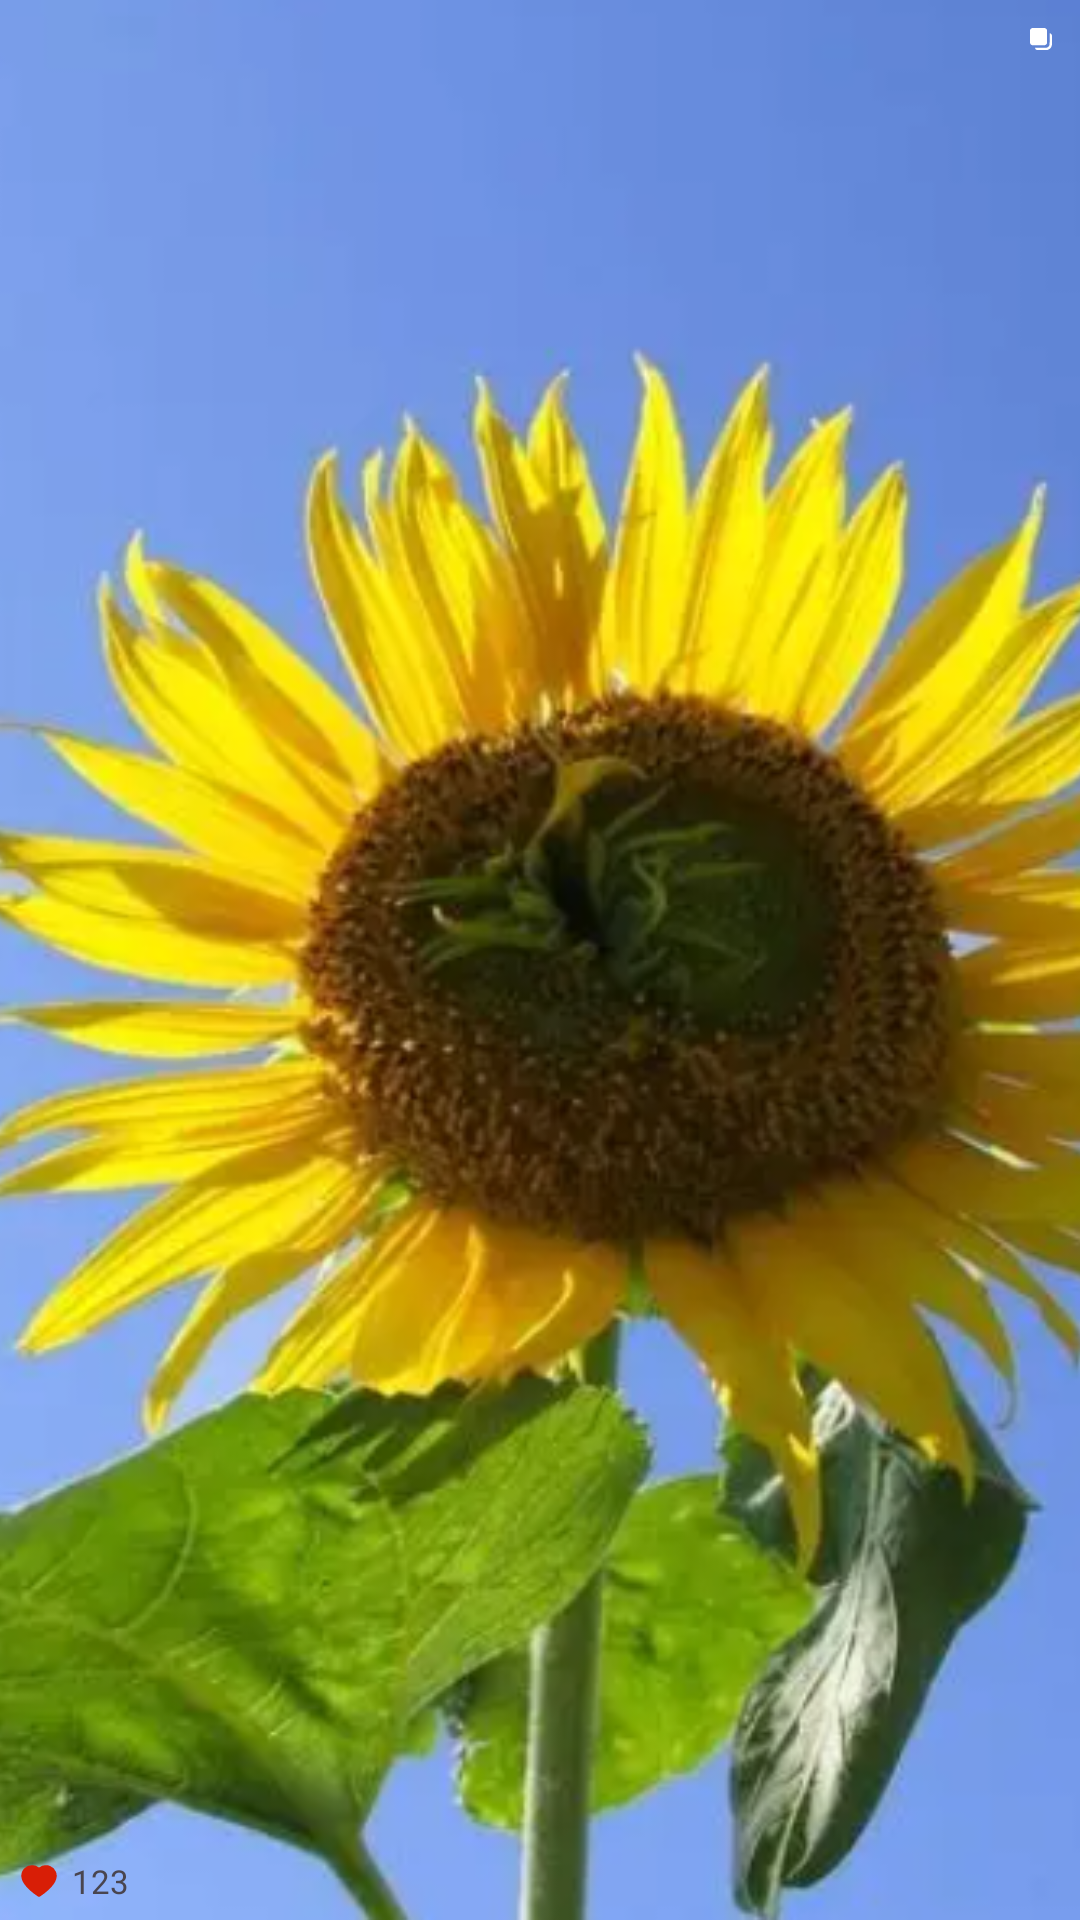

Named icons in this screenshot (1080*1920) and their centers, point (x, y):
heart: point (39, 1881)
